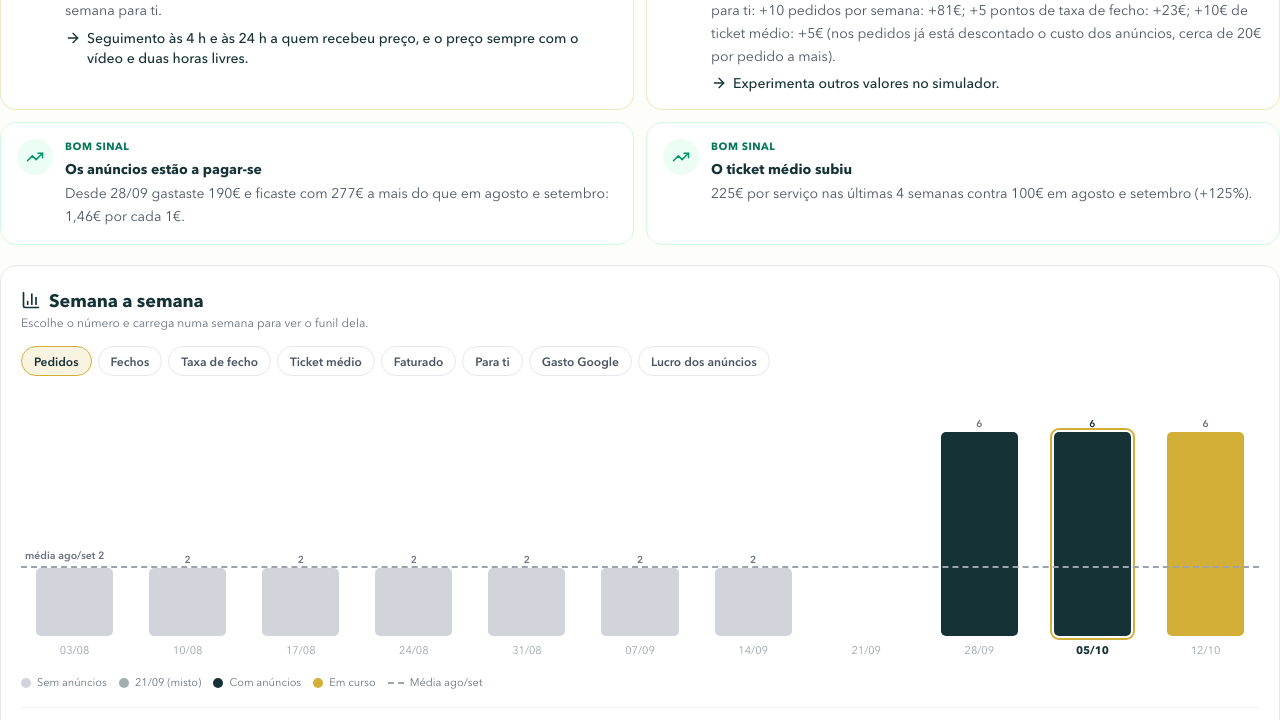
it: GrowthPanel › desenha o lucro dos anúncios, a semana ao vivo, as dicas, o gráfico, o simulador e as campanhas
(page scrolled)
Trocar o número do gráfico e escolher uma semana.
Click the tab "Fechos" at (130, 361), box [98, 346, 162, 376]
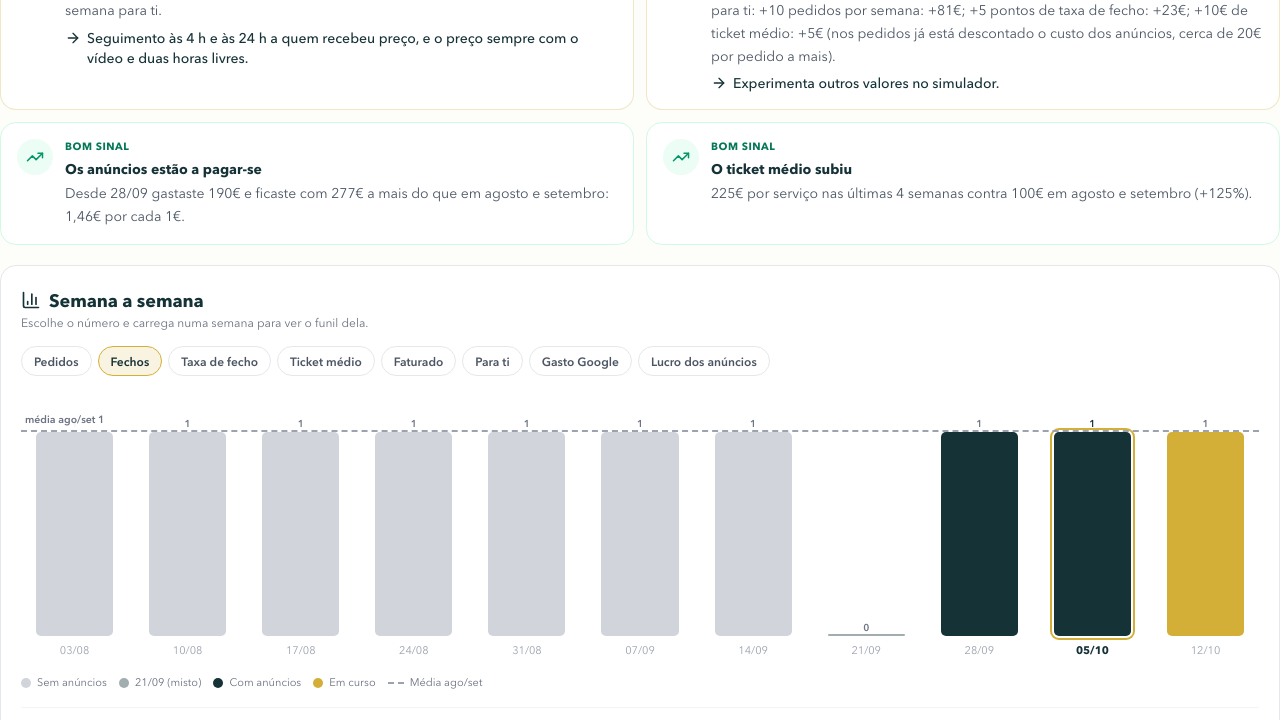
Expected: the tab "Fechos" is selected, [98, 346, 162, 376]
Click the button named "Semana de 28/09" at (979, 516), box [926, 396, 1033, 636]
(page scrolled)
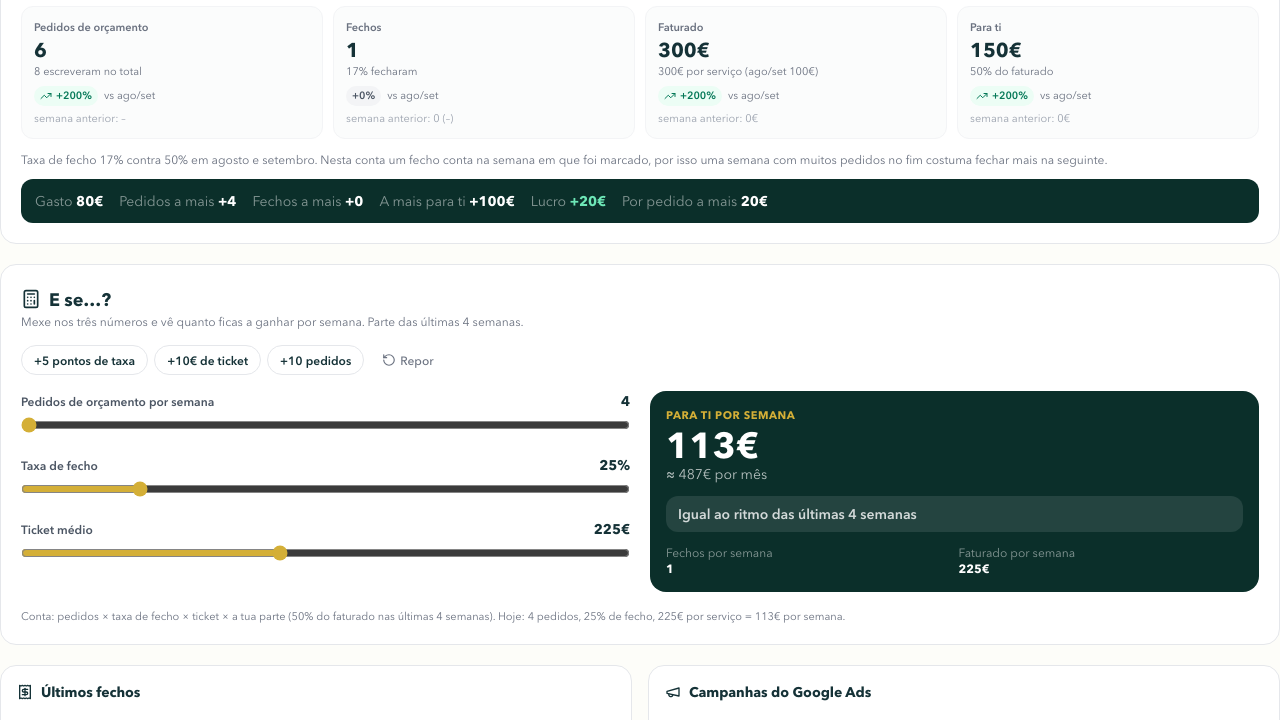
O simulador responde aos atalhos.
Click the button "+10€ de ticket" at (208, 360), box [154, 345, 261, 375]
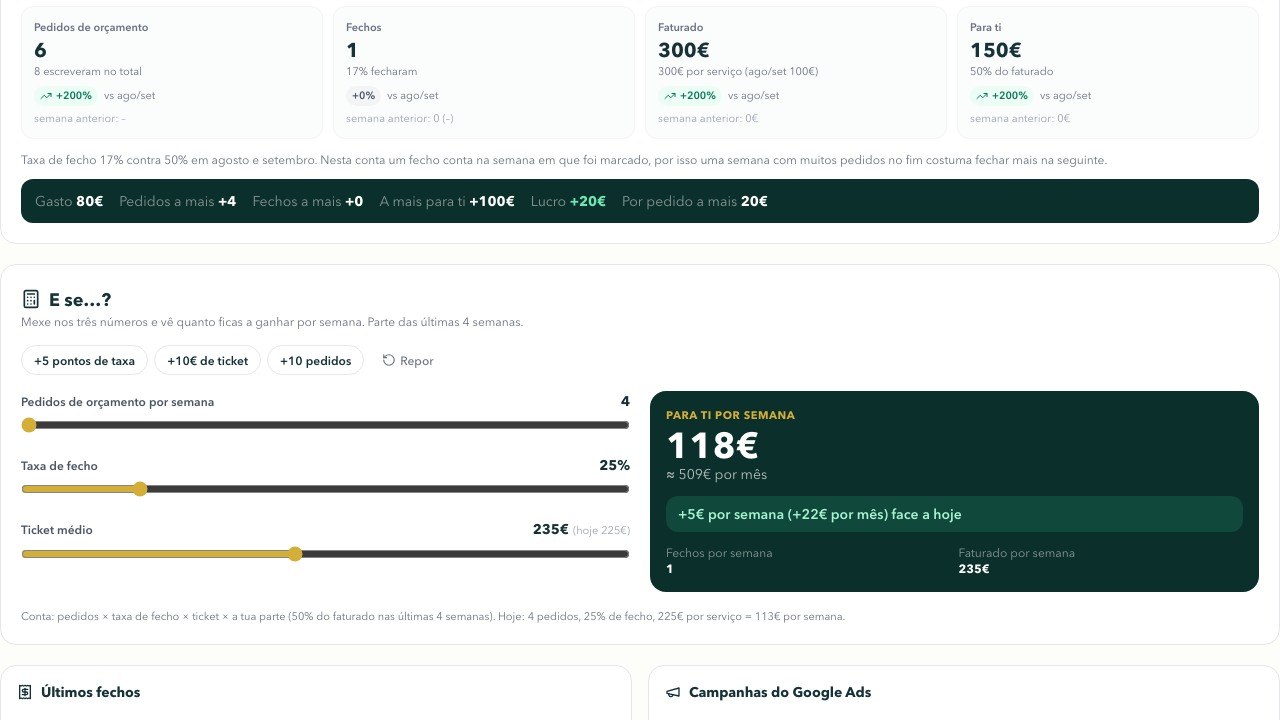
Expected: the text "+5€ por semana (+22€ por mês) face a hoje" is shown, [666, 496, 1243, 532]
